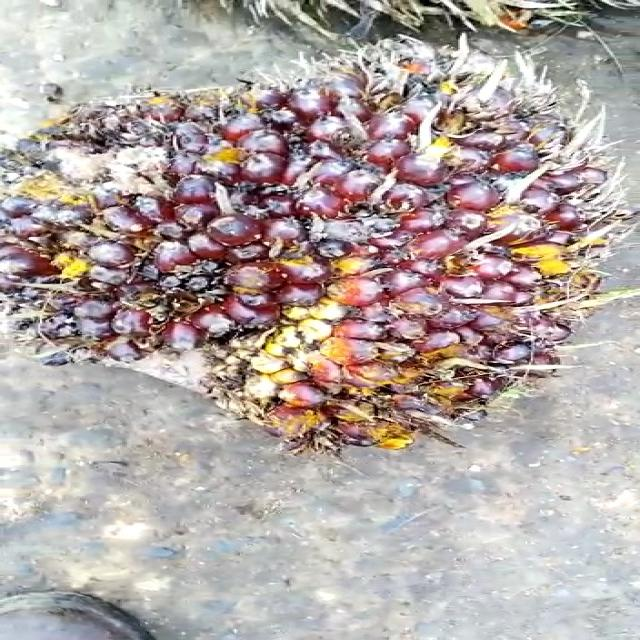palm oil: (0, 39, 640, 452)
